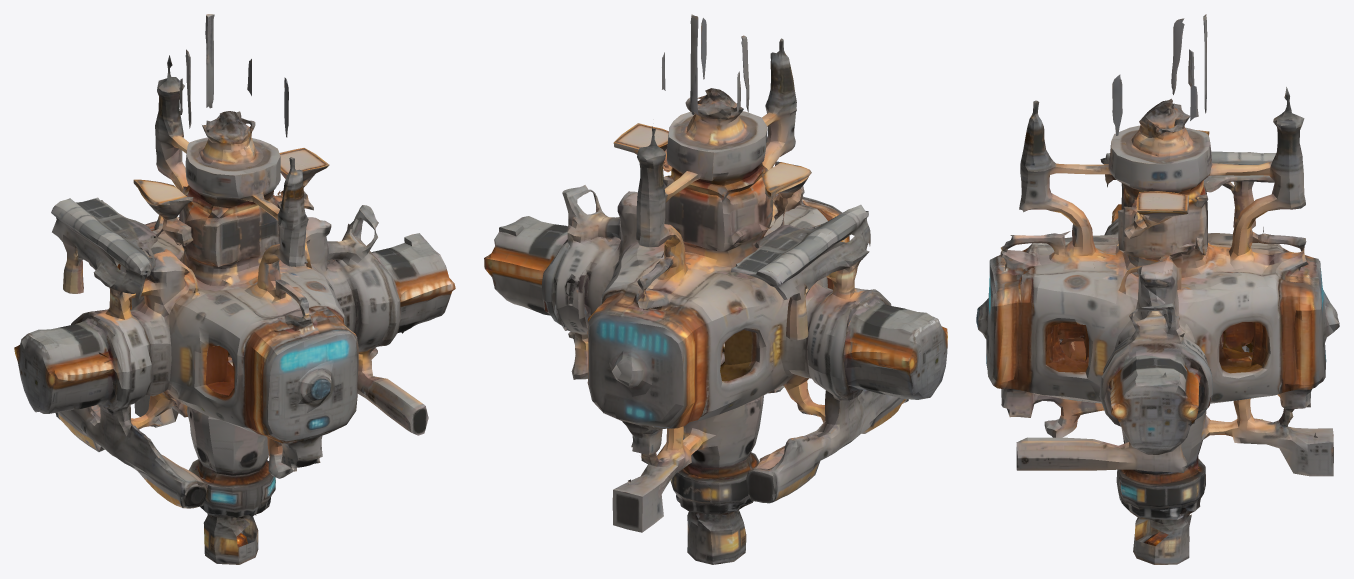
The model's file is station.glb.
3 views of the same model, side by side, from view 1: azimuth 30°, elevation 25°; view 2: azimuth 150°, elevation 25°; view 3: azimuth 270°, elevation 25° (orthographic). The views are drawn at different scales.
Parts seen in each view (by area): view 1: Mesh0; view 2: Mesh0; view 3: Mesh0.
Boxes of the visible parts, x1,y1,x2,y2 form: Mesh0: (14, 14, 455, 564); Mesh0: (484, 14, 947, 564); Mesh0: (976, 14, 1339, 564).
Size of the model in its own units: 1.61 by 1.99 by 1.22.
Materials: 1 (1 with a texture image).
